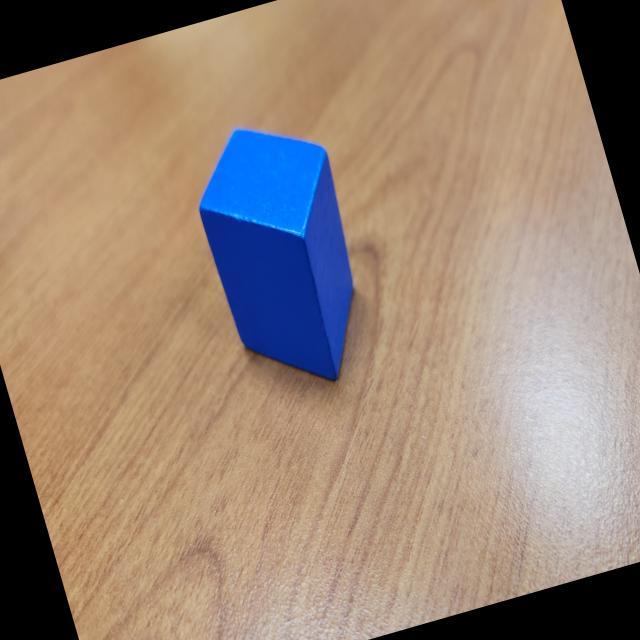blue: (179, 103, 388, 404)
